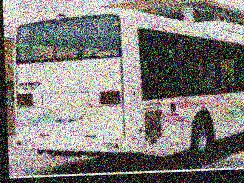bus: (11, 3, 244, 167)
